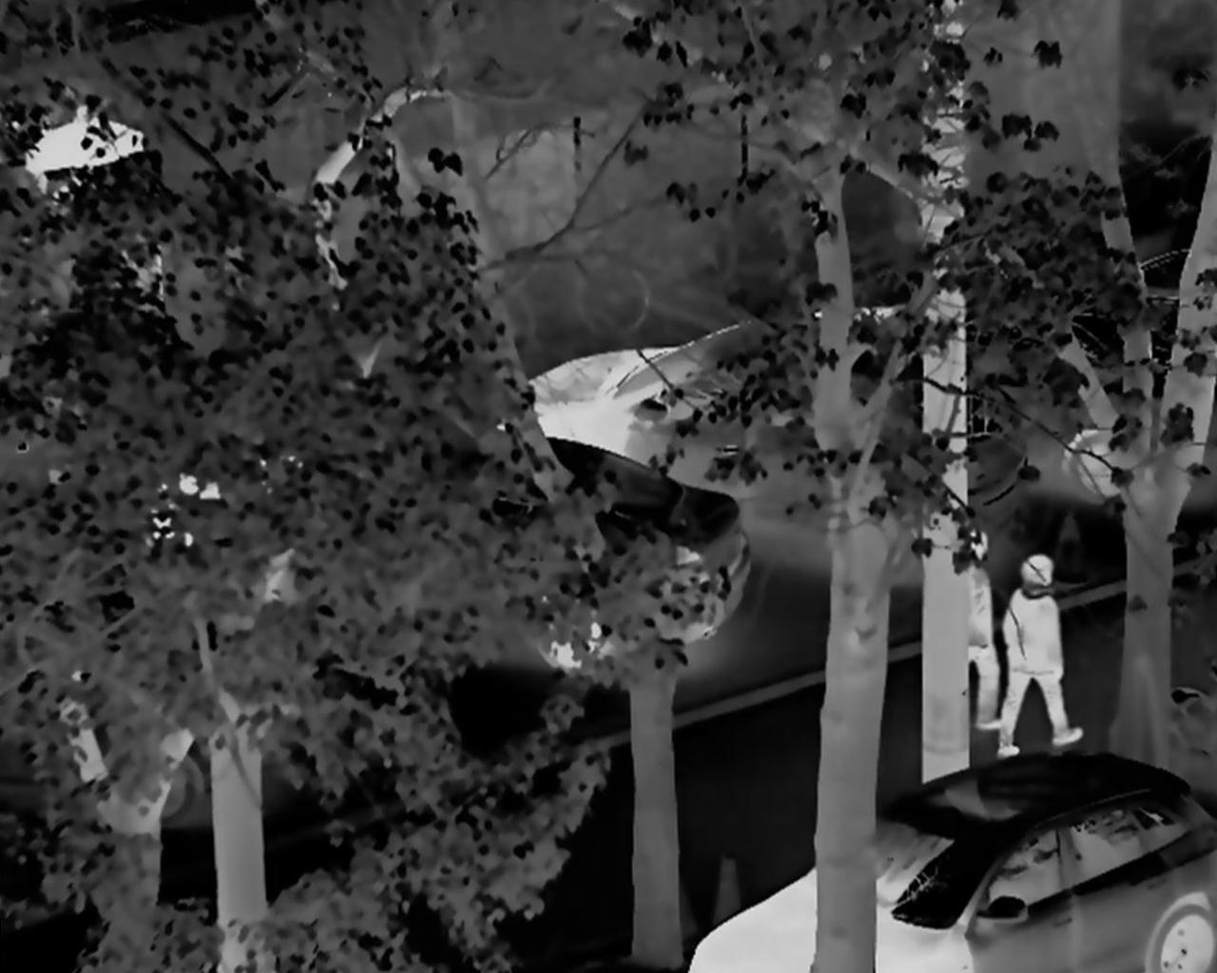person: (995, 545, 1087, 758), (940, 524, 1012, 731)
